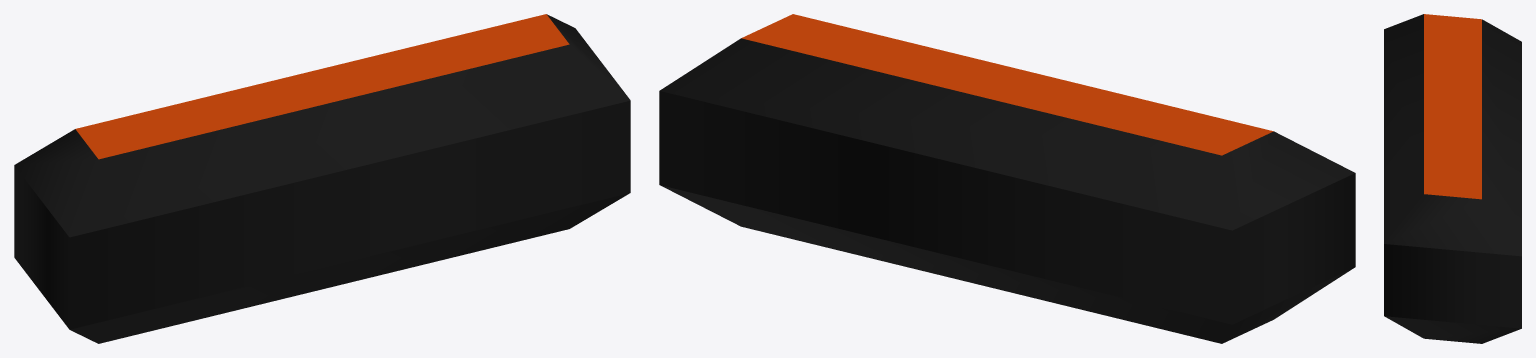
Rendered from Tiret.fbx.
3 views of the same model, side by side, from view 1: azimuth 30°, elevation 25°; view 2: azimuth 150°, elevation 25°; view 3: azimuth 270°, elevation 25° (orthographic). The views are drawn at different scales.
Visible parts, largest first — view 1: Text; view 2: Text; view 3: Text.
Part boxes in pixels (<box>): Text: <box>14,14,630,343</box>; Text: <box>659,14,1355,343</box>; Text: <box>1384,14,1521,343</box>.
Size of the model in its own units: 0.539 by 0.16 by 0.1383.
